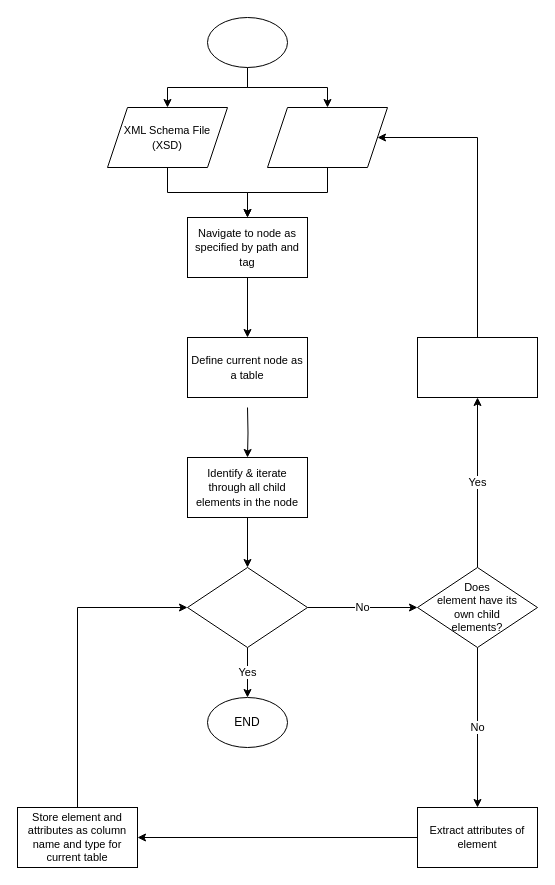
Some shapes in this 555 by 885 pixel diagram are drawn without their labels. Here are the shapes that lost their labels. From the top down, the centre of each, then its label:
At [247,42]: "START".
At [327,137]: "XSD path and tag".
At [477,367]: "Extract path and tag of element".
At [247,607]: "Has all child elements been iterated through?".
